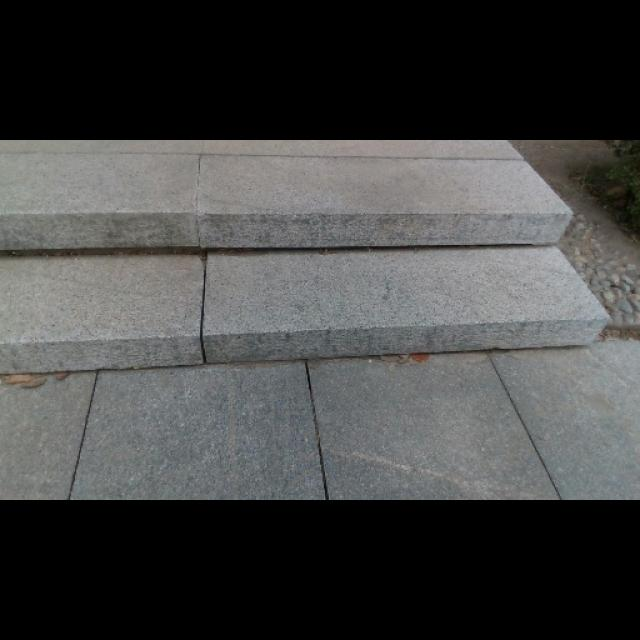Stairs: (0, 137, 612, 372)
